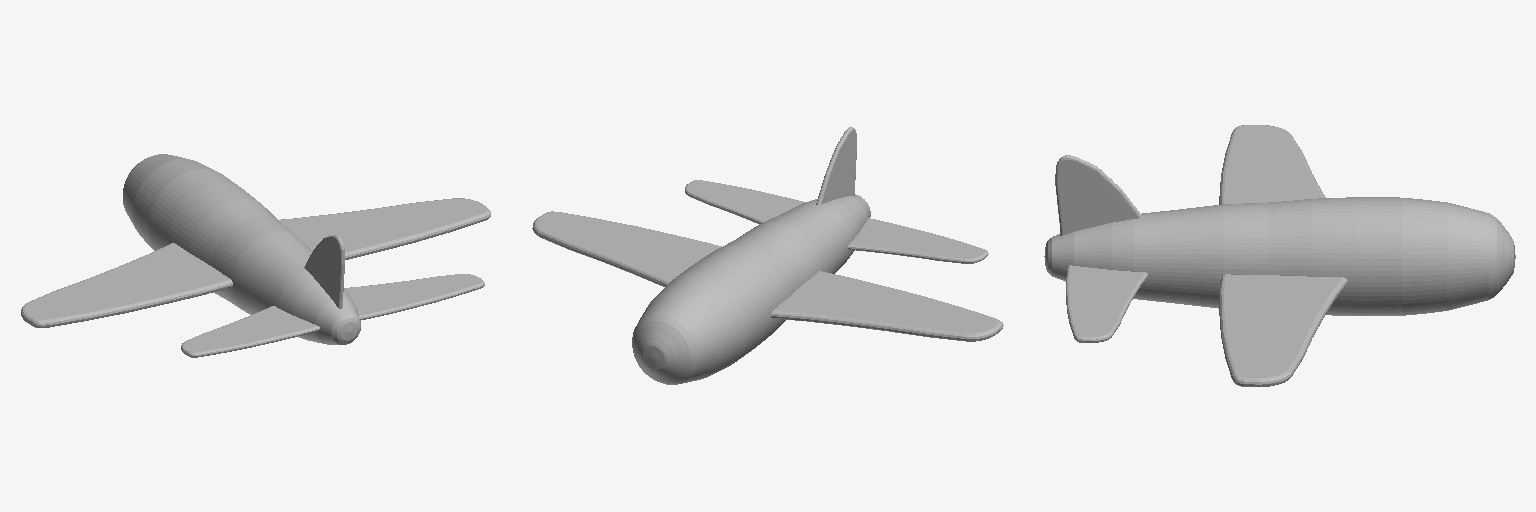
The robot description file, URDF, robot "root":
<robot name="root">
  <link name="link_001">
    <visual>
      <origin xyz="0 0 0" rpy="0 0 0"/>
      <geometry>
        <mesh filename="airplane.obj" scale="1.2500E+00 1.2500E+00 1.2500E+00"/>
      </geometry>
      <material name="">
        <color rgba="7.50E-01 7.50E-01 7.50E-01 1"/>
      </material>
    </visual>
    <collision>
      <origin xyz="0 0 0" rpy="0 0 0"/>
      <geometry>
        <mesh filename="airplane.obj" scale="1.2500E+00 1.2500E+00 1.2500E+00"/>
      </geometry>
    </collision>
    <inertial>
      <mass value="0.16"/> <!-- 质量：0.1kg -->
    </inertial>
  </link>
</robot>

--- What the picture shows (computed from the rendered views, not written in the file) ---
3 views of the same robot in one strip: view 1: azimuth 30°, elevation 25°; view 2: azimuth 150°, elevation 25°; view 3: azimuth 270°, elevation 25° (orthographic).
Model root with 1 links and 0 joints (none), rooted at link_001, posed every joint at zero.
Visible links, largest first — view 1: link_001; view 2: link_001; view 3: link_001.
Link boxes in pixels (x1,y1,x2,y2): link_001: (21, 154, 490, 357); link_001: (532, 127, 1003, 384); link_001: (1044, 125, 1515, 386).
Bounding box of the posed robot: 0.223 × 0.1725 × 0.0624 m (x, y, z).
1 mesh visuals loaded from 1 distinct referenced files (1 OBJ).
